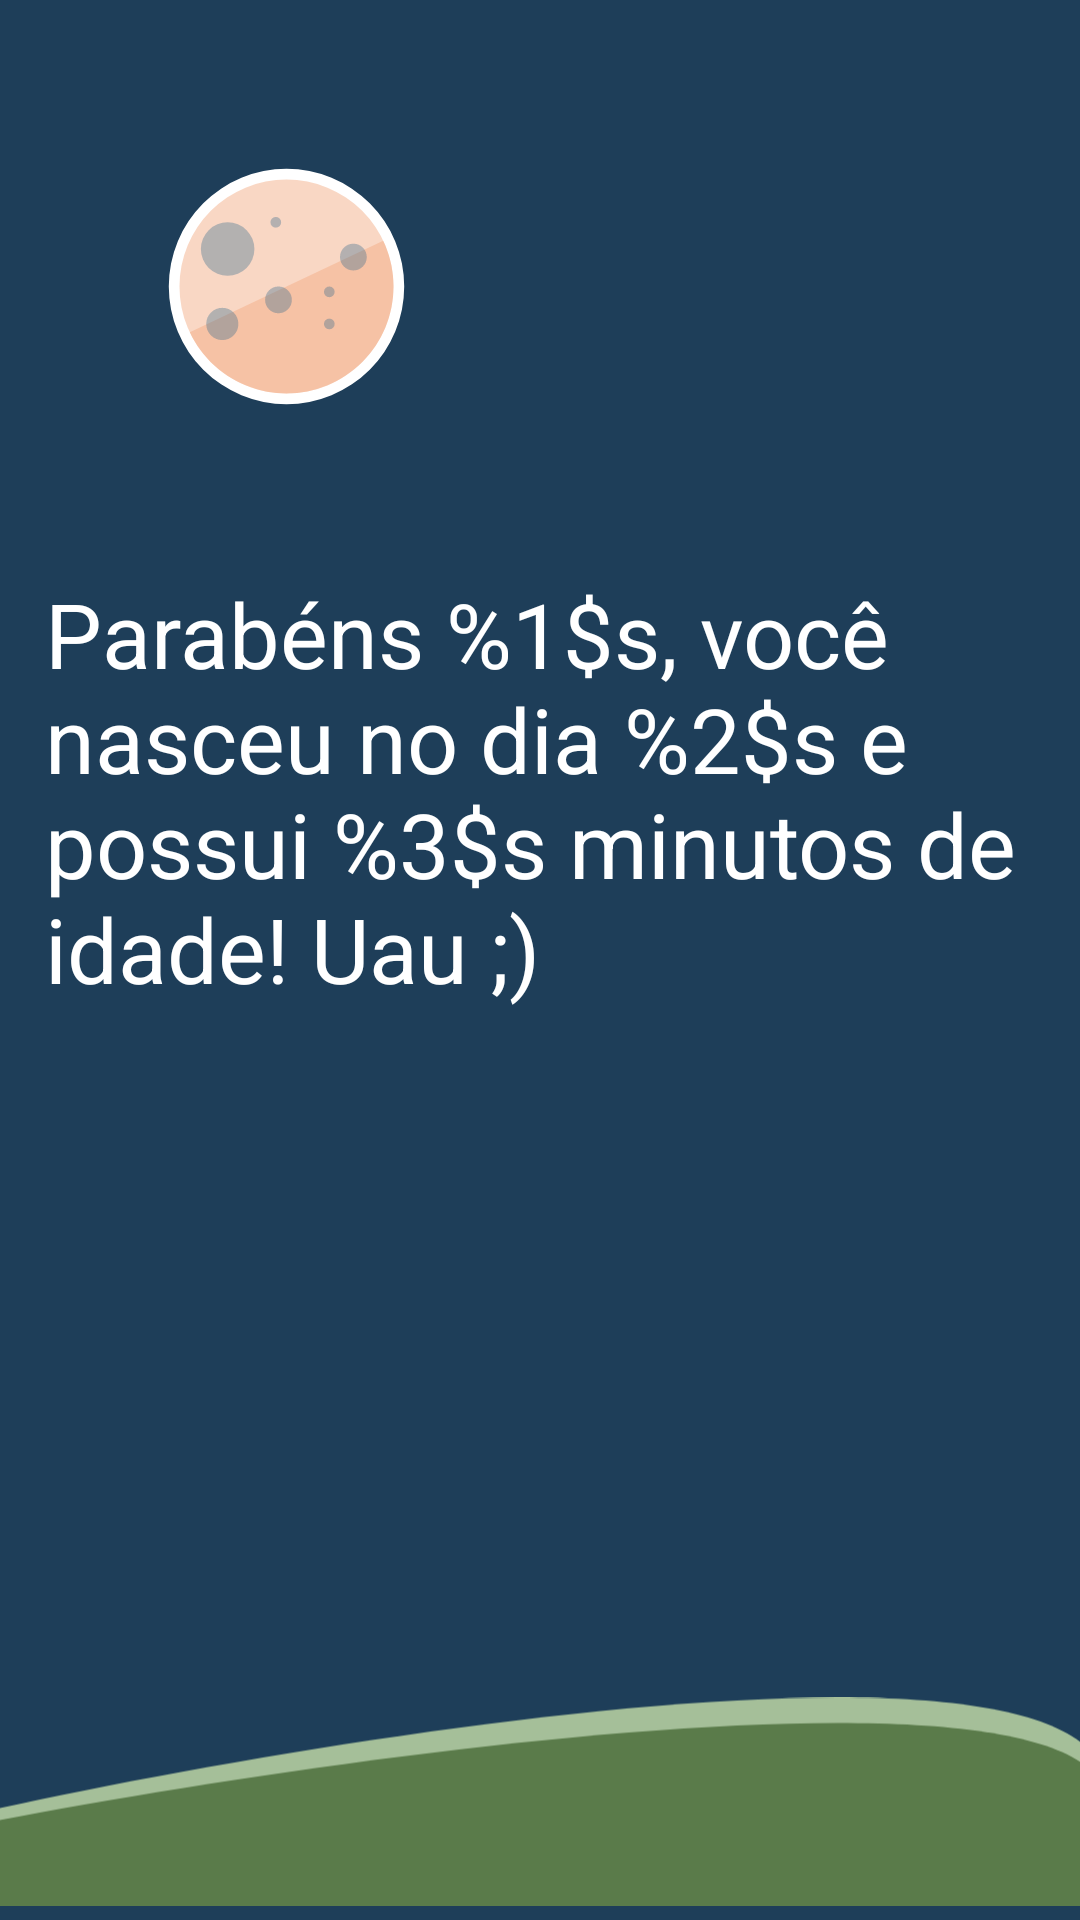

Locate icon controls on the screen. Image size 1080x1920, boxes as (x1, y1, x2, y2).
moon: (168, 168, 405, 405)
